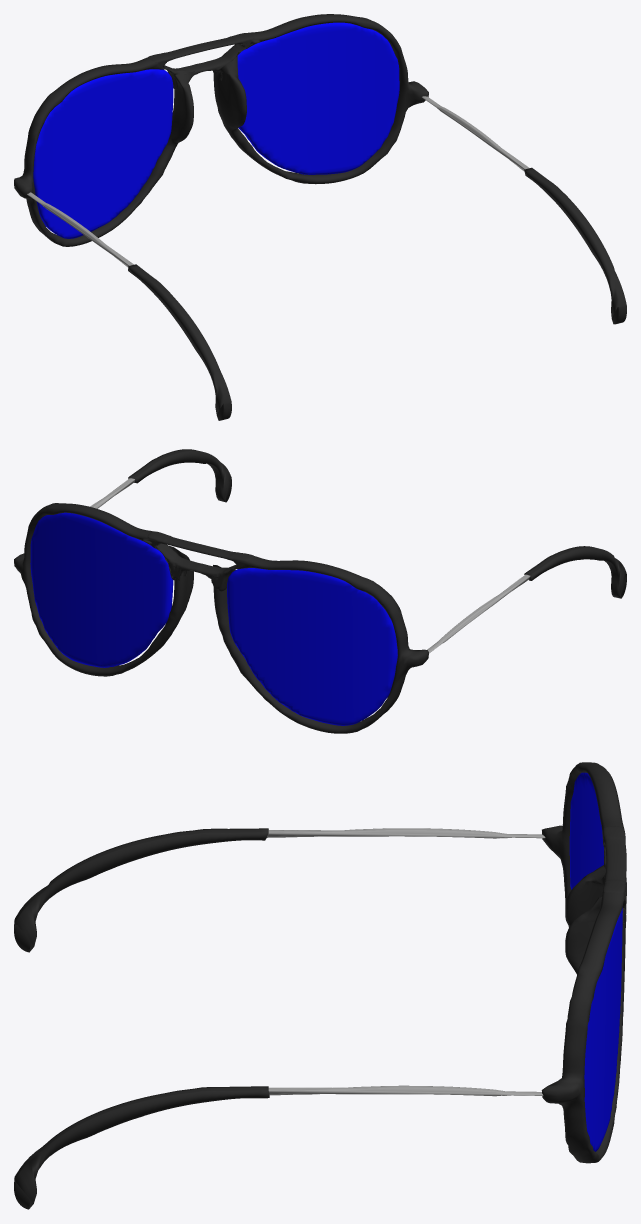
File: glasses2.fbx
The picture shows the model from 3 angles, top to bottom: view 1: azimuth 30°, elevation 25°; view 2: azimuth 150°, elevation 25°; view 3: azimuth 270°, elevation 25°; orthographic projection. The views are drawn at different scales.
Parts seen in each view (by area): view 1: Empty_Mesh, Empty_Mesh_1_1, Empty_Mesh_1; view 2: Empty_Mesh, Empty_Mesh_1_1, Empty_Mesh_1; view 3: Empty_Mesh_1_1, Empty_Mesh_1, Empty_Mesh.
Boxes of the visible parts, <box> form: Empty_Mesh: <box>33,22,399,238</box>; Empty_Mesh_1_1: <box>14,14,428,246</box>; Empty_Mesh_1: <box>27,96,626,420</box>; Empty_Mesh: <box>30,512,397,725</box>; Empty_Mesh_1_1: <box>14,503,428,733</box>; Empty_Mesh_1: <box>90,449,626,653</box>; Empty_Mesh_1_1: <box>541,762,626,1163</box>; Empty_Mesh_1: <box>14,828,545,1209</box>; Empty_Mesh: <box>569,772,622,1151</box>.
Size of the model in its own units: 8.6 by 3.43 by 8.4.
